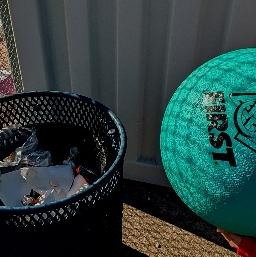algae: (156, 45, 256, 232)
